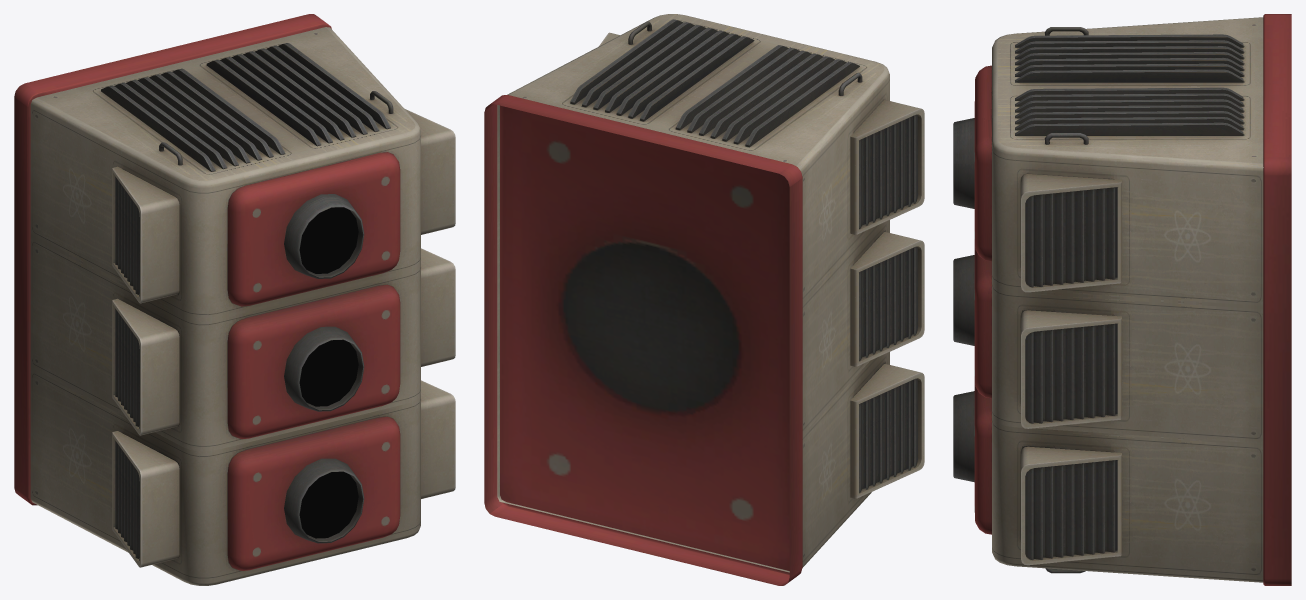
File: nt_generator_LOD0.obj
3 renders of one model, left to right at view 1: azimuth 30°, elevation 25°; view 2: azimuth 150°, elevation 25°; view 3: azimuth 270°, elevation 25°, orthographic. The views are drawn at different scales.
Visible parts, largest first — view 1: mtl_nt_generator, mtl_p6_fan_standing_modern_on; view 2: mtl_nt_generator; view 3: mtl_nt_generator.
Part boxes in pixels (box(x1,y1,x2,y2)): mtl_nt_generator: box(14, 14, 455, 585); mtl_p6_fan_standing_modern_on: box(299, 207, 358, 538); mtl_nt_generator: box(484, 14, 924, 585); mtl_nt_generator: box(953, 14, 1291, 585).
Bounding box in the file's own units: 293 × 379 × 264.
